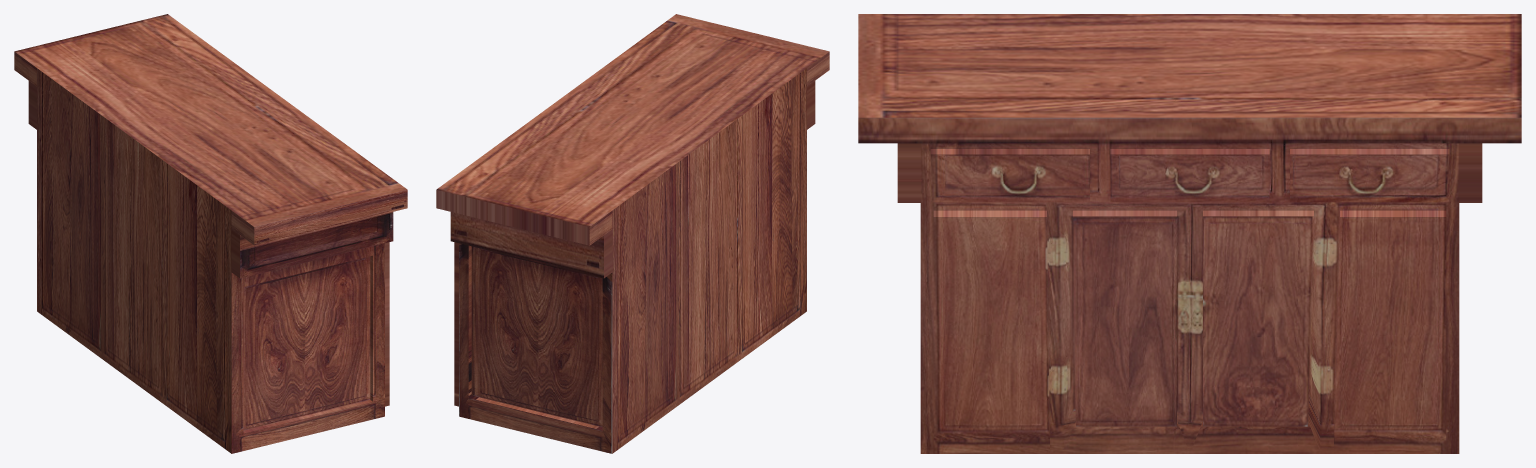
The model's file is cabinet.fbx.
The picture shows the model from 3 angles, left to right: view 1: azimuth 30°, elevation 25°; view 2: azimuth 150°, elevation 25°; view 3: azimuth 270°, elevation 25°; orthographic projection. The views are drawn at different scales.
Parts seen in each view (by area): view 1: Cube; view 2: Cube; view 3: Cube.
Boxes of the visible parts, x1,y1,x2,y2 form: Cube: [14, 14, 407, 453]; Cube: [436, 14, 829, 453]; Cube: [858, 14, 1521, 453].
Size of the model in its own units: 106 by 152 by 271.
1 material, 1 textured.
